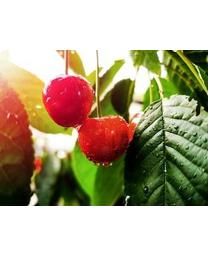cherry: (77, 114, 130, 166), (43, 78, 92, 126)
